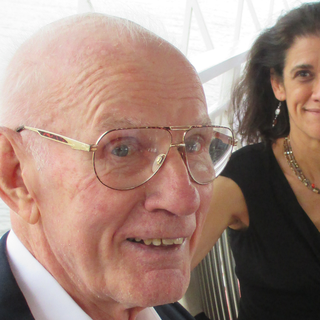eye: (93, 130, 149, 169), (172, 125, 212, 164), (281, 65, 317, 87)
